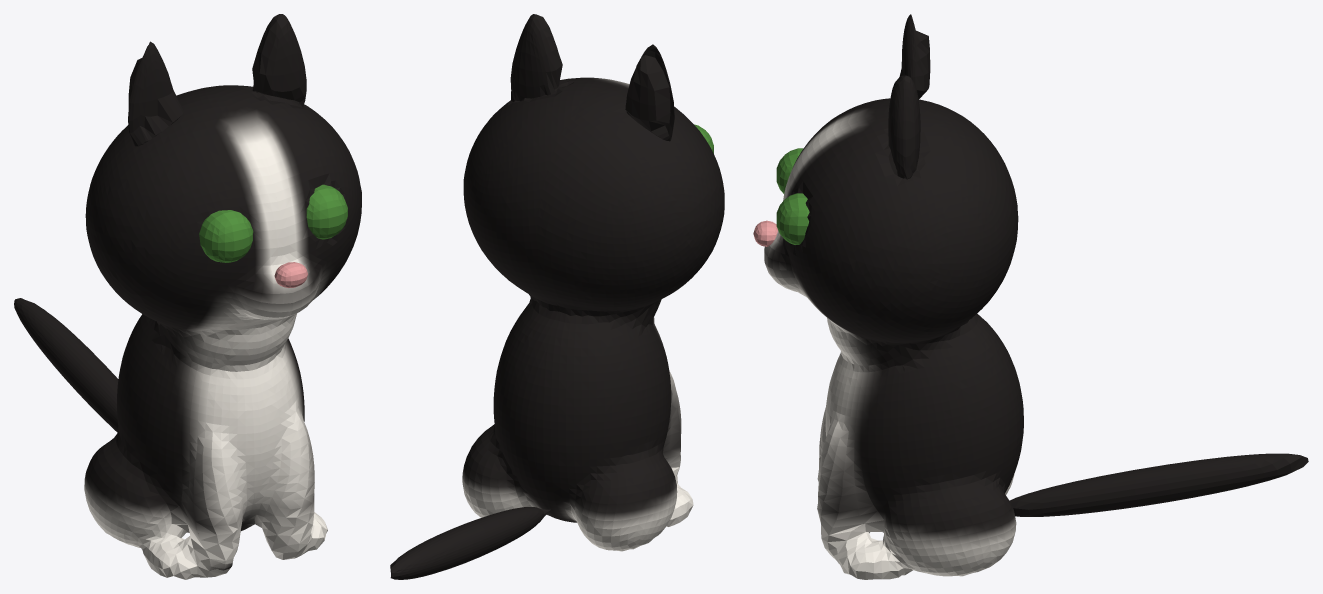
Rendered from figure.glb.
3 renders of one model, left to right at view 1: azimuth 30°, elevation 25°; view 2: azimuth 150°, elevation 25°; view 3: azimuth 270°, elevation 25°, orthographic. The views are drawn at different scales.
Parts seen in each view (by area): view 1: geometry_0; view 2: geometry_0; view 3: geometry_0.
Boxes of the visible parts, <box> form: geometry_0: <box>14,14,361,579</box>; geometry_0: <box>390,14,724,579</box>; geometry_0: <box>753,14,1308,579</box>.
Size of the model in its own units: 45.47 by 90.81 by 91.86.
1 material, 1 textured.
